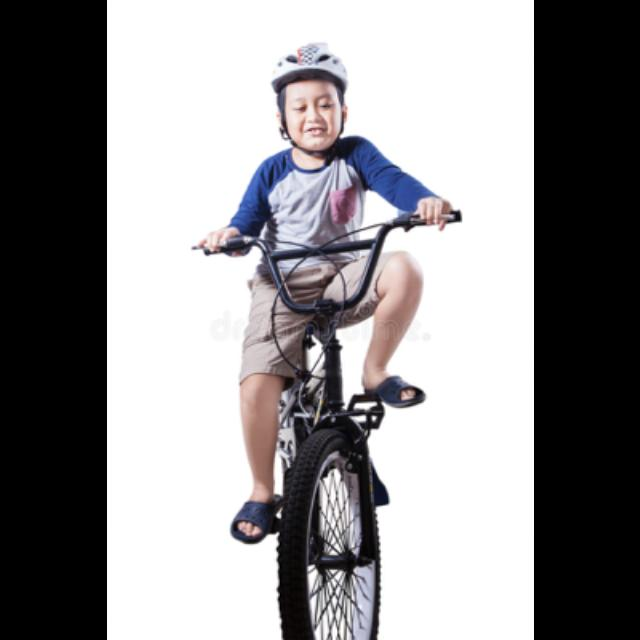With Helmet: (256, 42, 362, 158)
